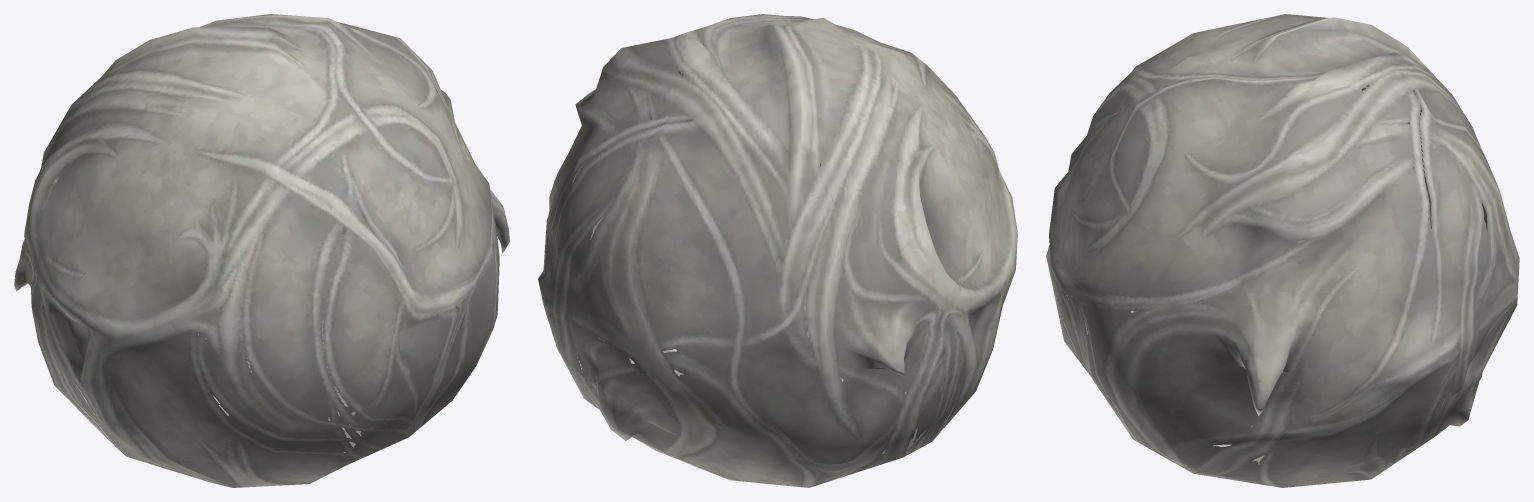
The picture shows the model from 3 angles, left to right: view 1: azimuth 30°, elevation 25°; view 2: azimuth 150°, elevation 25°; view 3: azimuth 270°, elevation 25°; orthographic projection.
Visible parts, largest first — view 1: SM_Corpse_Cotton_LOD0; view 2: SM_Corpse_Cotton_LOD0; view 3: SM_Corpse_Cotton_LOD0.
Part boxes in pixels (x1,y1,x2,y2): SM_Corpse_Cotton_LOD0: [14, 14, 509, 487]; SM_Corpse_Cotton_LOD0: [538, 14, 1017, 487]; SM_Corpse_Cotton_LOD0: [1046, 14, 1519, 487].
Bounding box in the file's own units: 0.3688 × 0.3484 × 0.3418.
1 material, 1 textured.
